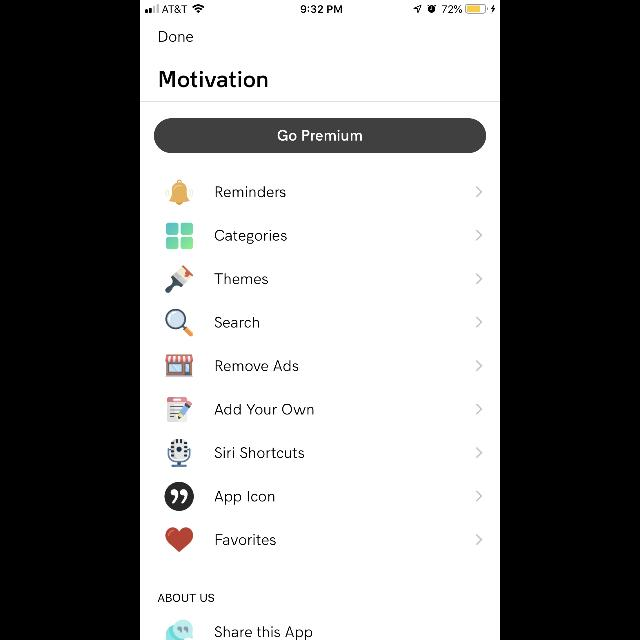icon: (165, 309, 193, 337), (166, 222, 194, 250), (165, 528, 193, 552), (165, 180, 193, 204), (476, 534, 482, 546), (476, 316, 482, 328), (476, 186, 482, 198), (476, 491, 482, 502), (476, 361, 482, 372), (476, 448, 482, 458), (476, 404, 482, 414), (476, 274, 482, 284), (476, 230, 482, 240)
image: (164, 482, 193, 512), (165, 265, 193, 293), (165, 354, 193, 378), (168, 396, 192, 422), (168, 439, 190, 467), (166, 620, 194, 640)
text: (160, 70, 268, 88), (215, 626, 312, 640), (215, 230, 287, 244), (214, 404, 314, 414), (216, 361, 298, 372), (214, 448, 304, 458), (215, 491, 275, 505), (216, 186, 286, 198), (216, 534, 276, 546), (215, 274, 268, 284), (215, 316, 259, 328), (158, 594, 214, 602), (159, 32, 193, 42)
textbutton: (154, 118, 486, 154)
uppertaskbar: (140, 0, 500, 14)
